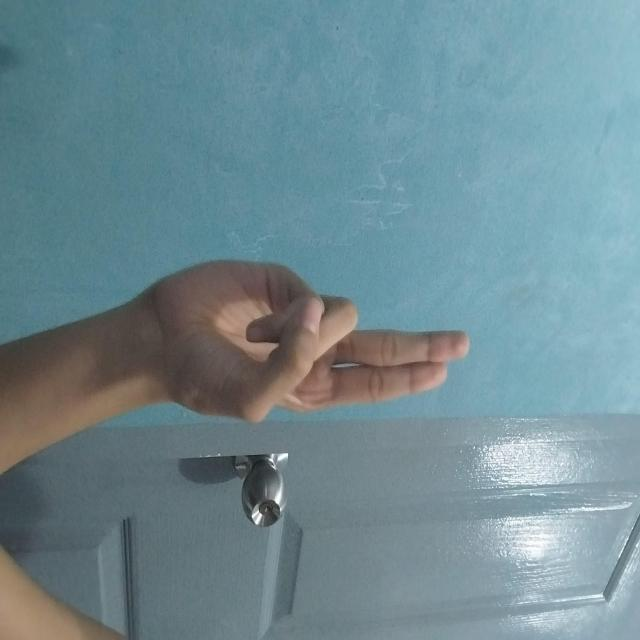U: (256, 169, 424, 488)
